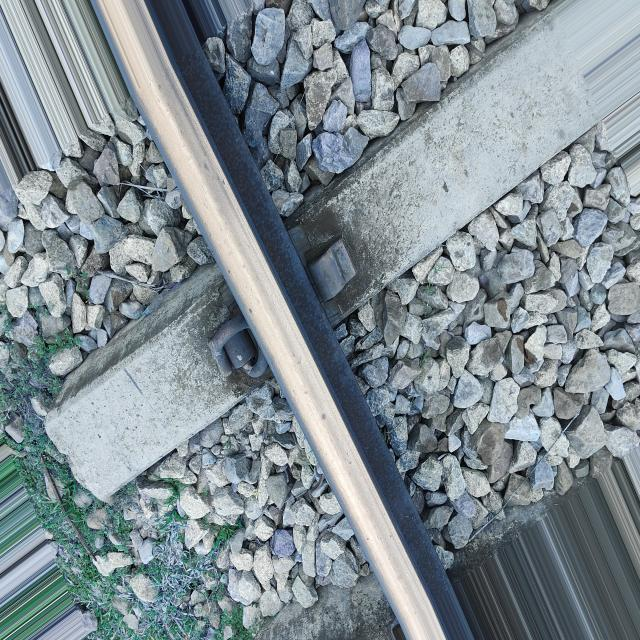Good Fasteners: (209, 313, 268, 378)
Missing Fastener: (287, 233, 382, 317)
